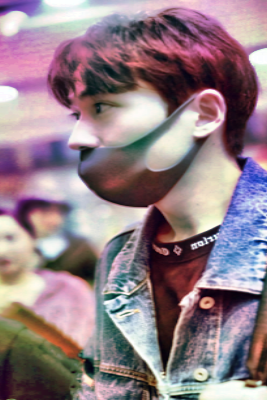mask_weared_incorrect: (67, 97, 196, 207)
